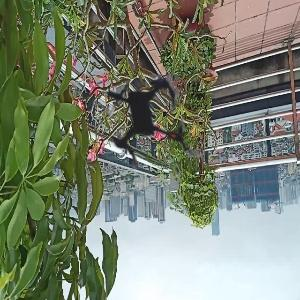drone: (42, 20, 241, 219)
